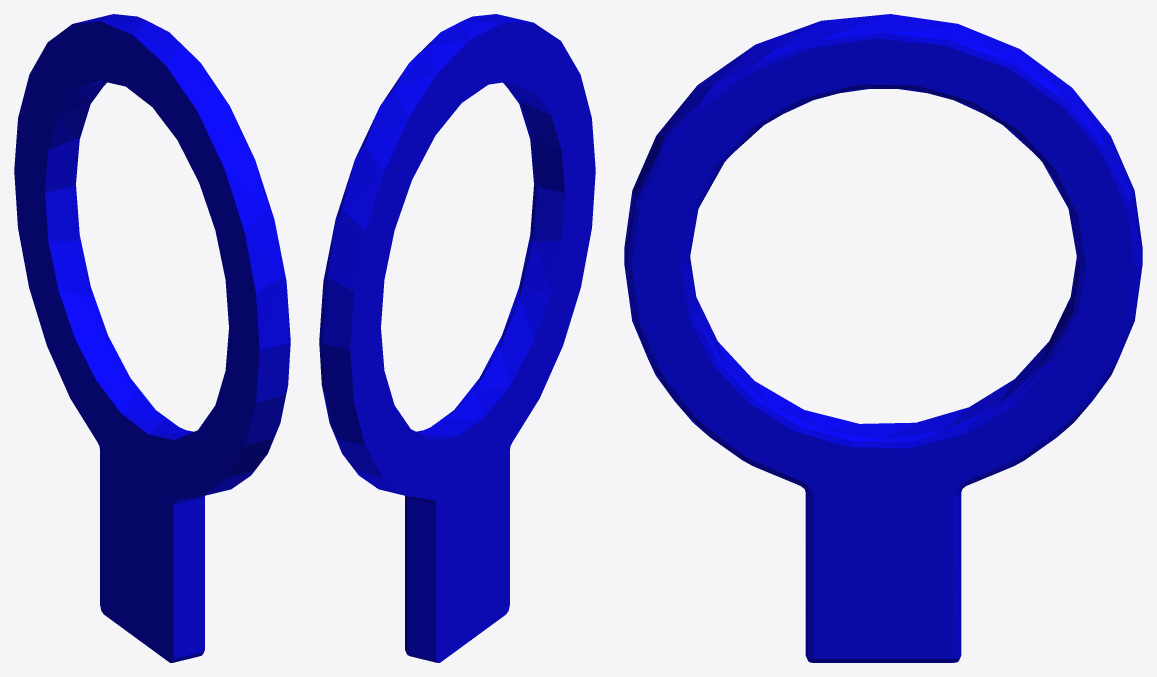
Rendered from round_latch_handle.obj.
3 views of the same model, side by side, from view 1: azimuth 30°, elevation 25°; view 2: azimuth 150°, elevation 25°; view 3: azimuth 270°, elevation 25° (orthographic). The views are drawn at different scales.
Bounding box in the file's own units: 0.00203 × 0.0343 × 0.0254.
